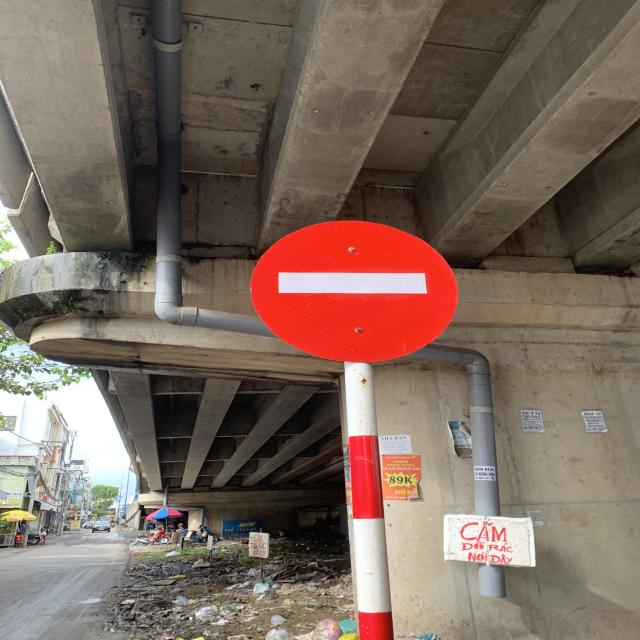Cam_Di_Nguoc_Chieu: (250, 221, 461, 363)
